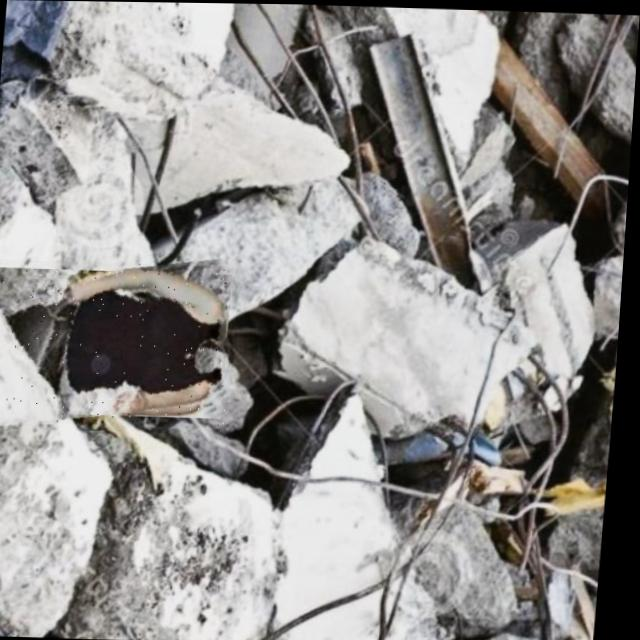Person in Rubble: (0, 258, 240, 426)
